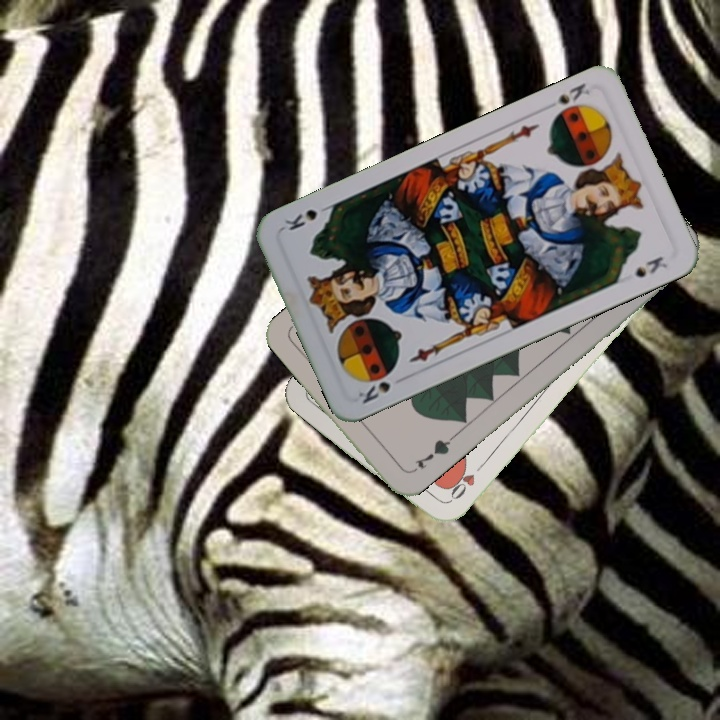G7: (411, 433, 455, 472)
HO: (445, 457, 489, 505)
SK: (354, 366, 400, 407), (553, 78, 597, 107)
